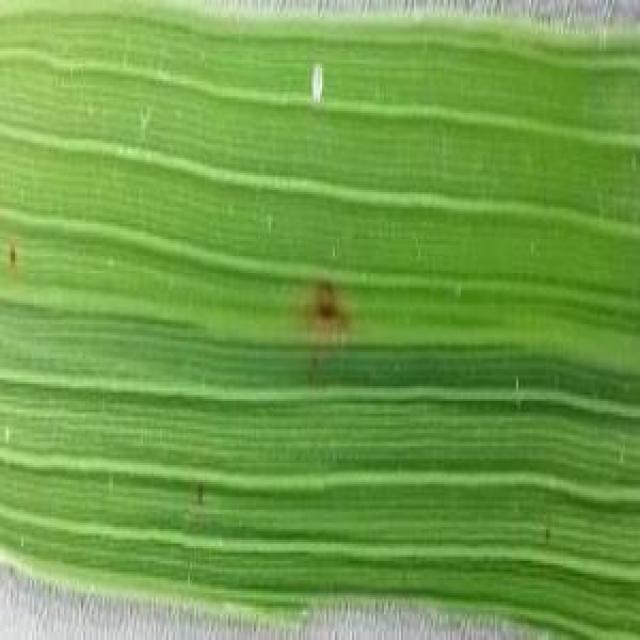brownspots: (294, 278, 360, 330)
